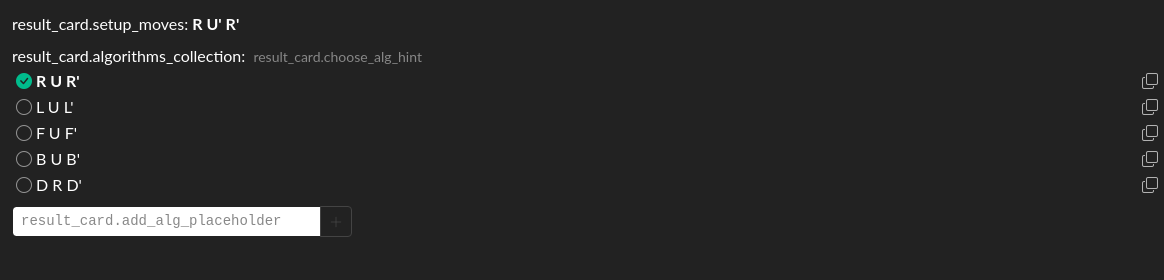
Test: removing your own alg › deletes only user-added algs
The image size is (1164, 280).
In the field with placeholder "result_card.add_alg_placeholder": (166, 222) [12, 206, 321, 237], type "R U2 R'"
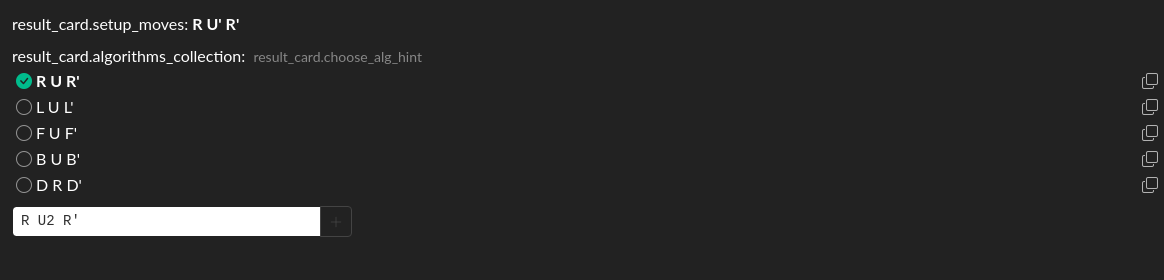
Press Enter in the field, box [12, 206, 321, 237]
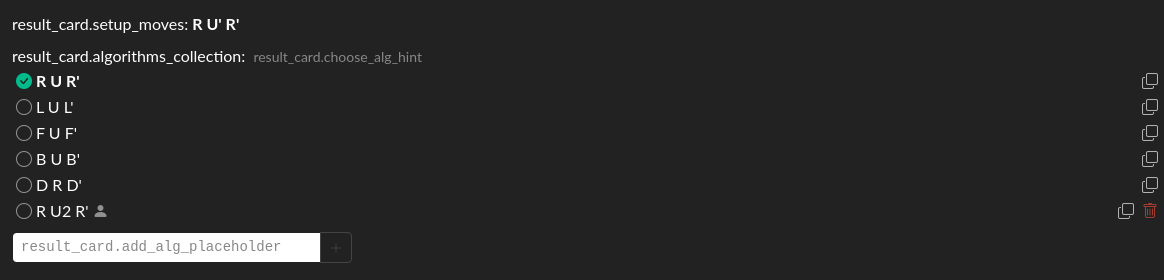
Click the 7th button with class "action-btn": (1150, 211) [1140, 203, 1160, 219]
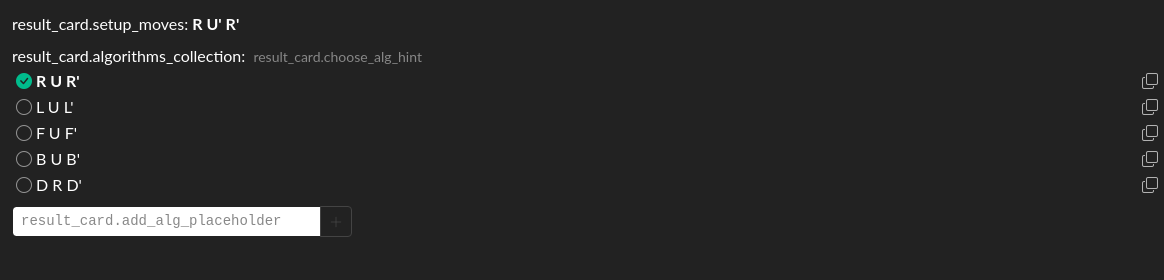
Now the text "R U2 R'" is gone
